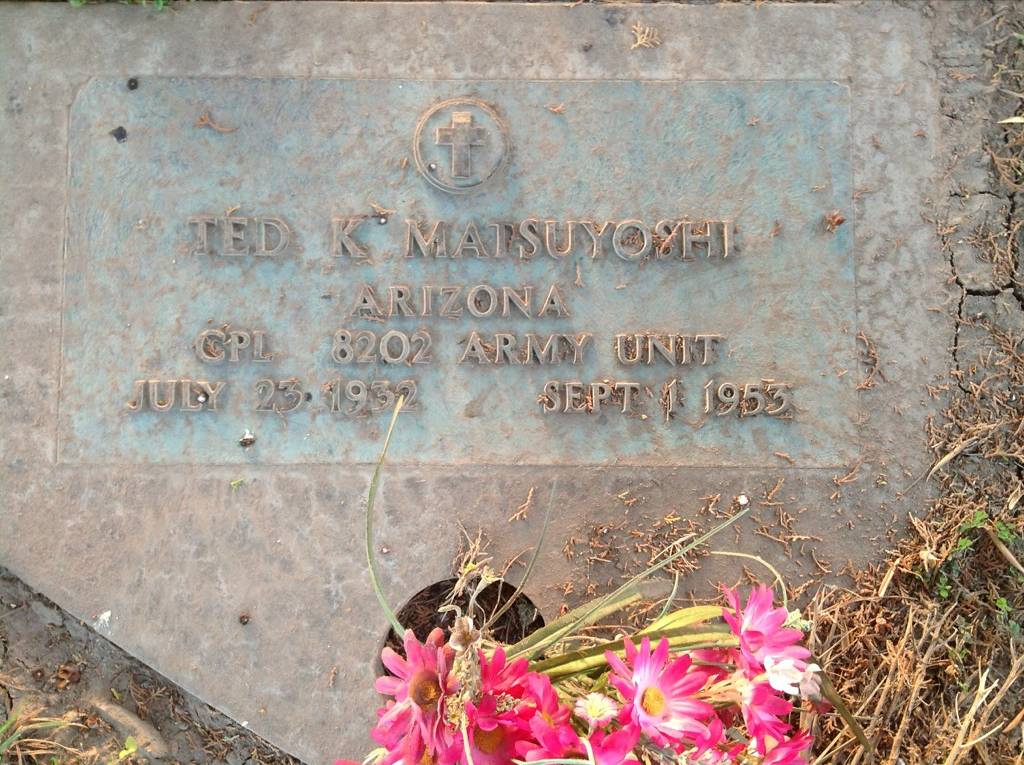flat: (53, 63, 865, 481)
